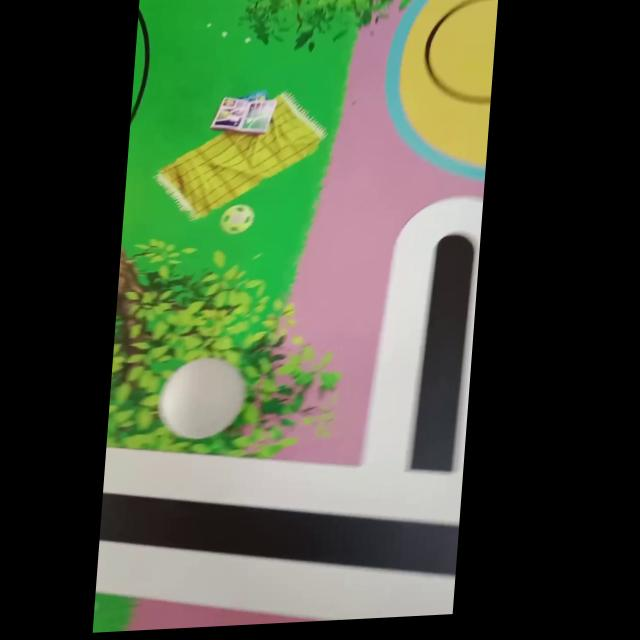white ball: (154, 354, 249, 442)
